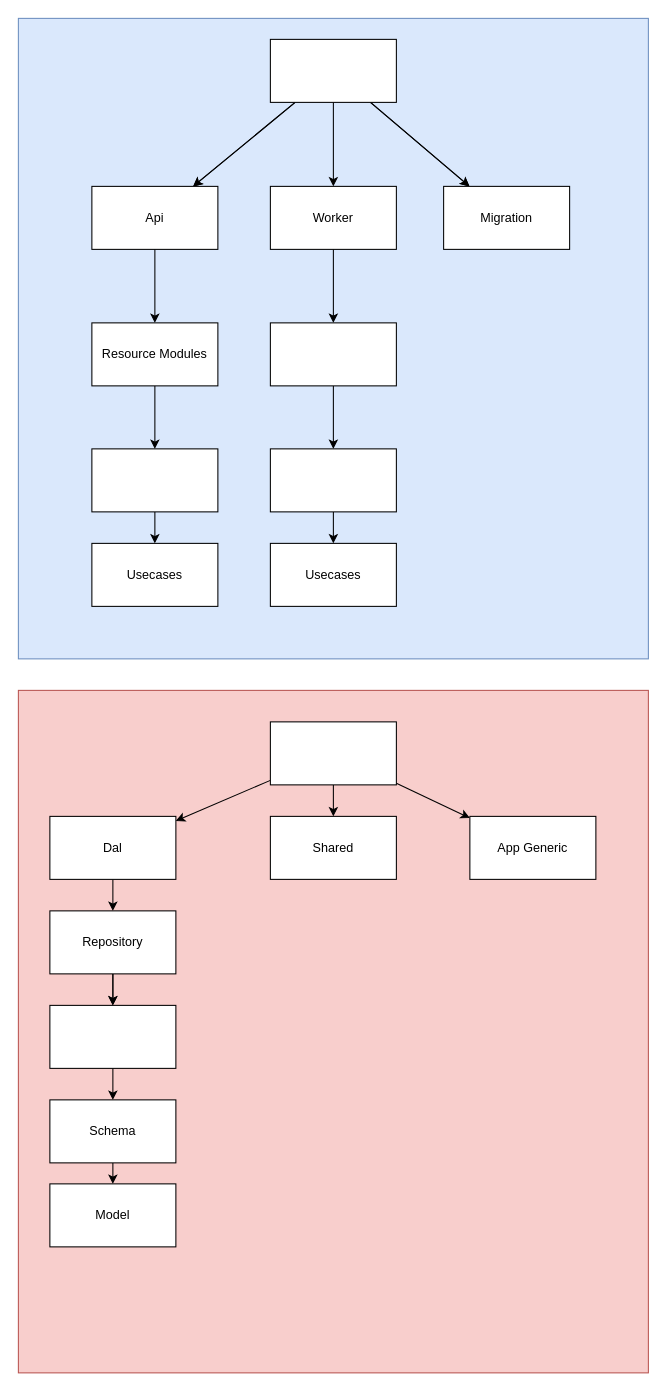
This 667x1391 diagram has some shape labels left out. Here are the shapes that lost their labels. From the top down, the centre of each, then its label:
(x=332, y=70): Apps
(x=332, y=354): Queue Modules
(x=154, y=480): Resolver
(x=332, y=480): Consumer Handler
(x=332, y=753): Libs
(x=112, y=1036): Entity
